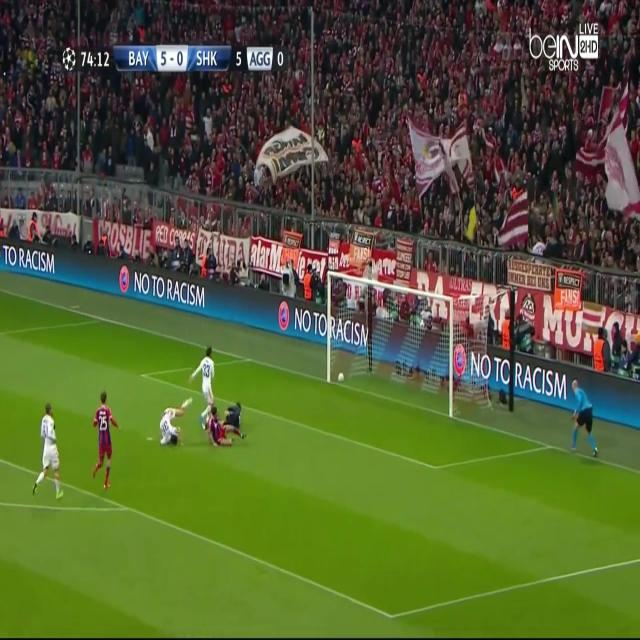Ball: (336, 370, 346, 384)
Goalkeeper: (221, 398, 245, 427)
Player: (29, 398, 66, 502), (88, 388, 121, 491), (188, 337, 216, 435), (156, 396, 194, 451), (207, 409, 247, 452)
Referee: (569, 374, 604, 462)
